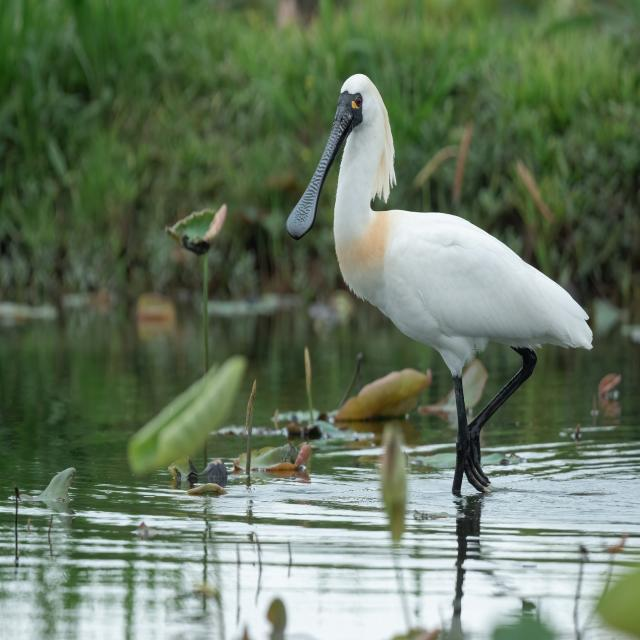Black-faced spoonbill: (287, 74, 591, 492)
